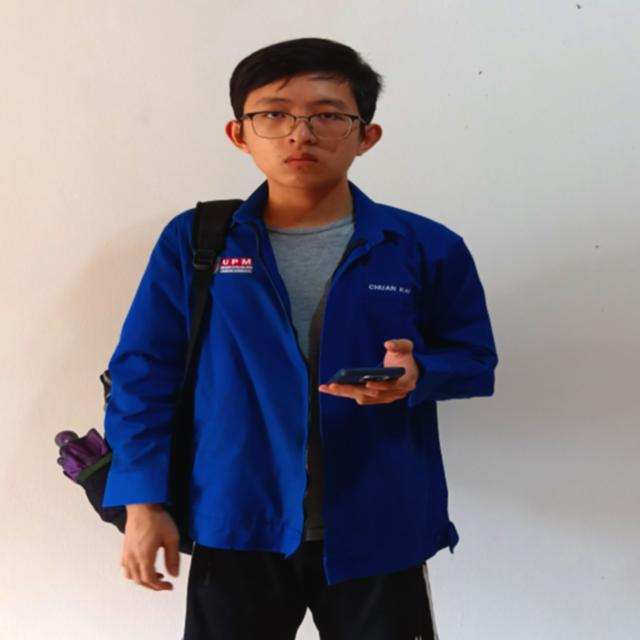person_with_labcoat: (56, 38, 497, 640)
